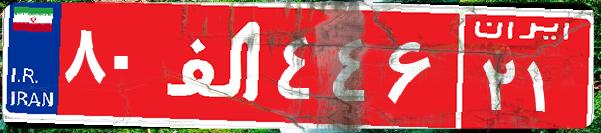0: (110, 28, 158, 105)
1: (525, 38, 570, 115)
2: (475, 38, 525, 113)
4: (273, 28, 330, 110), (330, 28, 385, 110)
6: (385, 28, 445, 110)
8: (57, 26, 110, 107)
الف: (158, 15, 273, 115)
